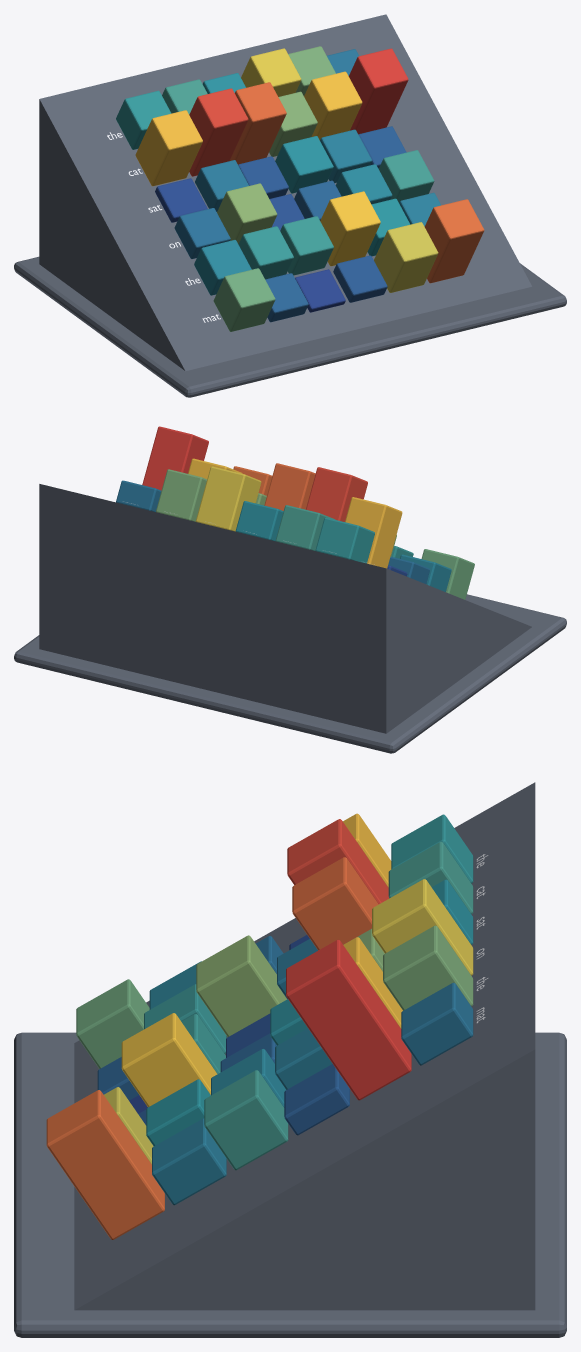
File: scores.glb
3 renders of one model, top to bottom at view 1: azimuth 30°, elevation 25°; view 2: azimuth 150°, elevation 25°; view 3: azimuth 270°, elevation 25°, orthographic. The views are drawn at different scales.
Visible parts, largest first — view 1: slope, stand, col.006, col.011, col.035, col.007, col.034, col.027, col.008, col.030, col.010, col.019 (+26 smaller); view 2: slope, stand, col.003, col.011, col.006, col.007, col, col.004, col.008, col.001, col.002, col.030 (+4 smaller); view 3: slope, stand, col.011, col.035, col.019, col.023, col.027, col.008, col.004, col.003, col.029, col.005 (+20 smaller).
Boxes of the visible parts, left/top/right/bottom form: slope: left=39, top=14, right=531, bottom=371; stand: left=14, top=256, right=566, bottom=397; col.006: left=135, top=110, right=202, bottom=186; col.011: left=348, top=48, right=408, bottom=134; col.035: left=424, top=199, right=484, bottom=283; col.007: left=189, top=88, right=248, bottom=176; col.034: left=374, top=222, right=438, bottom=292; col.027: left=320, top=191, right=380, bottom=266; col.008: left=229, top=82, right=286, bottom=164; col.030: left=213, top=268, right=275, bottom=331; col.010: left=304, top=71, right=362, bottom=140; col.019: left=217, top=183, right=277, bottom=244; slope: left=39, top=484, right=531, bottom=733; stand: left=14, top=594, right=566, bottom=753; col.003: left=195, top=466, right=261, bottom=531; col.011: left=142, top=426, right=208, bottom=490; col.006: left=345, top=497, right=402, bottom=568; col.007: left=306, top=467, right=367, bottom=521; col: left=315, top=517, right=374, bottom=563; col.004: left=156, top=469, right=206, bottom=521; col.008: left=264, top=463, right=315, bottom=510; col.001: left=275, top=505, right=335, bottom=550; col.002: left=235, top=501, right=283, bottom=541; col.030: left=421, top=549, right=474, bottom=599; slope: left=74, top=782, right=535, bottom=1310; stand: left=14, top=1032, right=566, bottom=1337; col.011: left=286, top=939, right=411, bottom=1100; col.035: left=46, top=1090, right=164, bottom=1239; col.019: left=196, top=935, right=286, bottom=1036; col.023: left=204, top=1070, right=288, bottom=1170; col.027: left=121, top=1013, right=217, bottom=1107; col.008: left=292, top=857, right=378, bottom=950; col.004: left=383, top=925, right=473, bottom=1010; col.003: left=372, top=879, right=473, bottom=975; col.029: left=152, top=1118, right=226, bottom=1205; col.005: left=401, top=982, right=473, bottom=1065.
Size of the model in its own units: 1.1 by 0.5559 by 0.8749.
